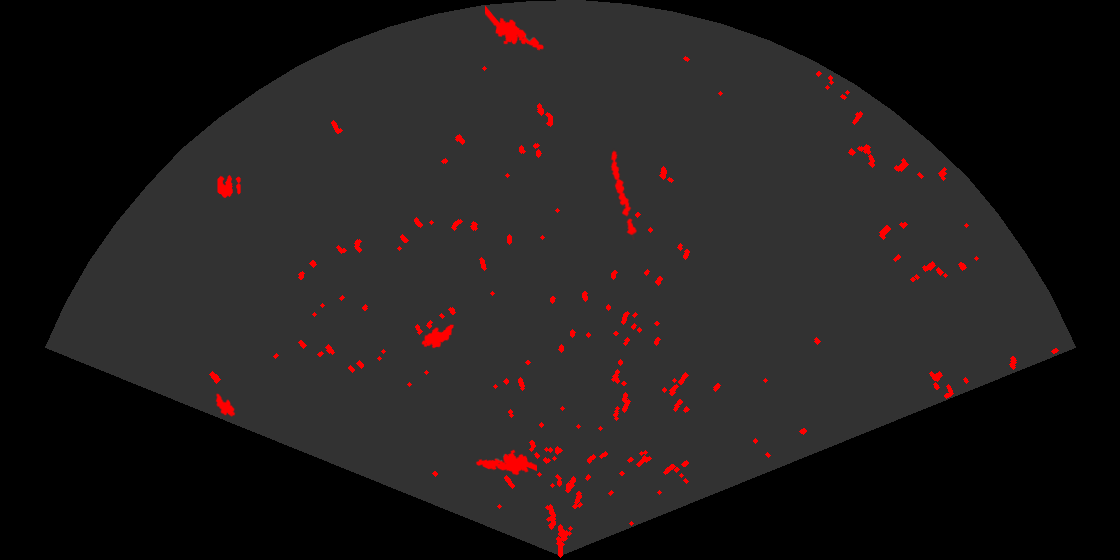AUV: (420, 323, 456, 350), (214, 392, 237, 418)
ball: (216, 173, 242, 199)
chain: (609, 148, 639, 240)
frogman: (485, 5, 545, 52), (474, 448, 537, 477)
